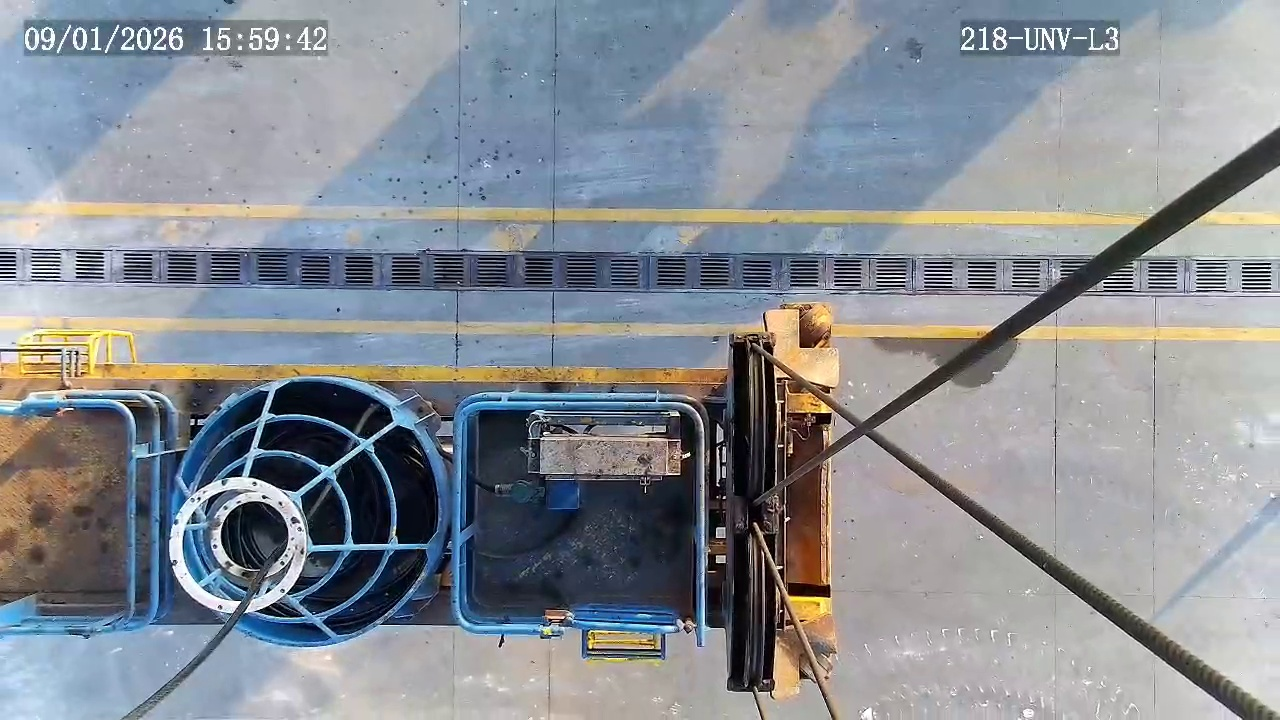right: (170, 378, 442, 648)
